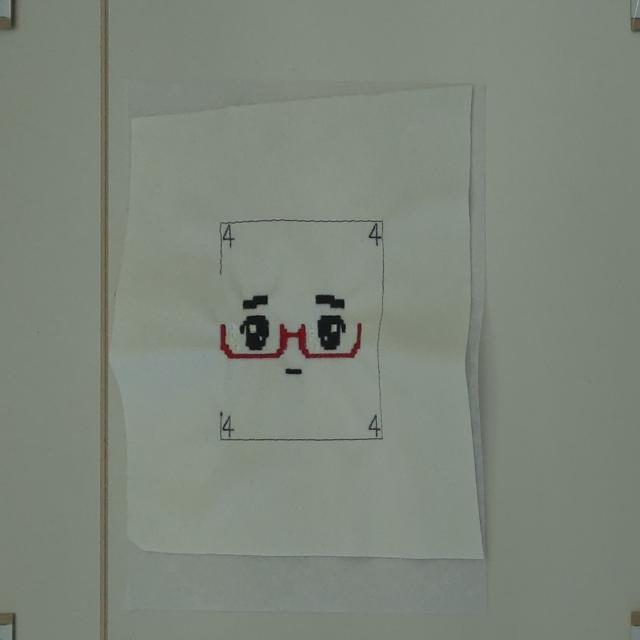4 -: (366, 222, 384, 248), (366, 411, 381, 437), (223, 224, 237, 250), (223, 414, 236, 440)
